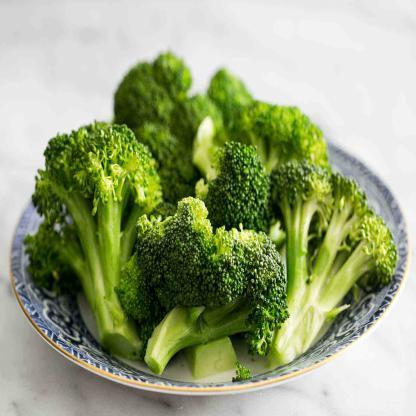broccoli: (18, 49, 399, 384)
